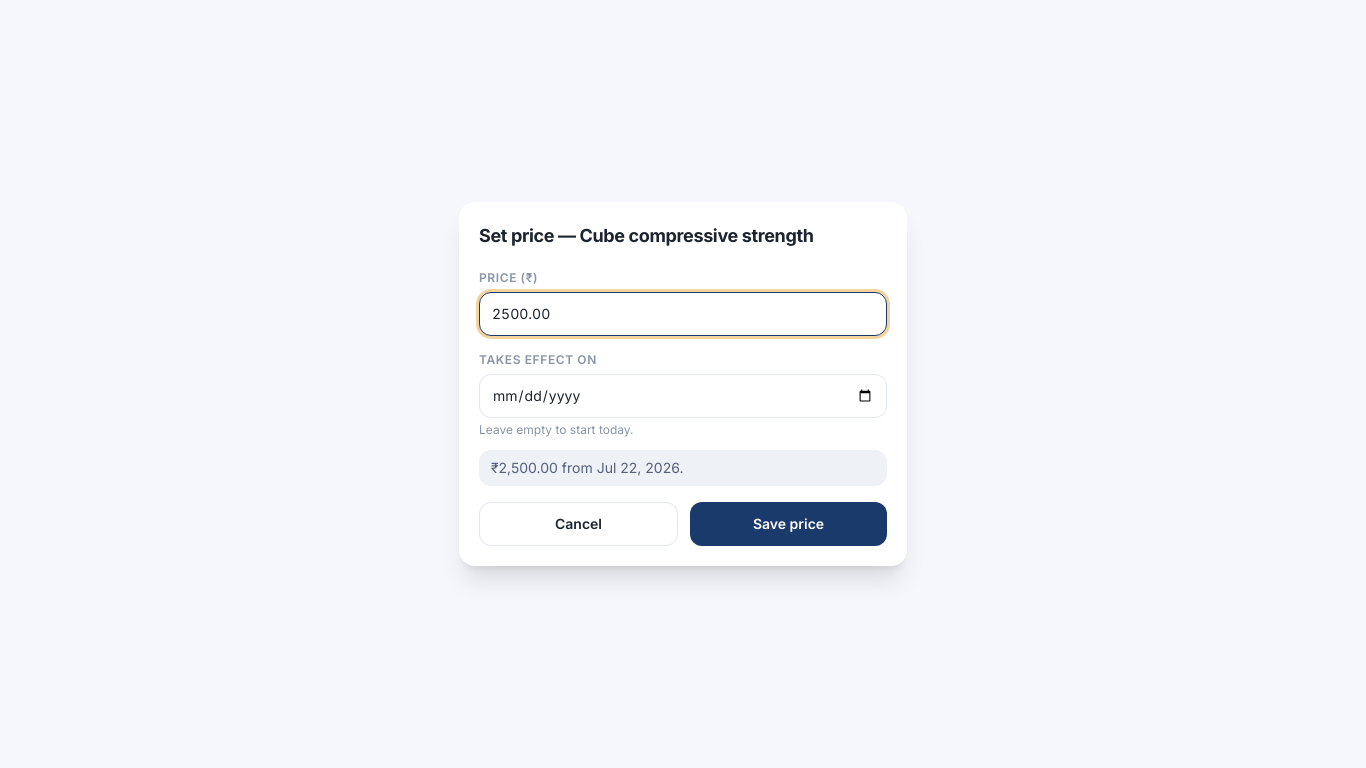
it: RateEditor › shows the 409 conflict message from the server verbatim
The width and height of the screenshot is (1366, 768).
Clear the field labelled "Price (₹)" at coordinates (683, 314), box [479, 292, 887, 336]
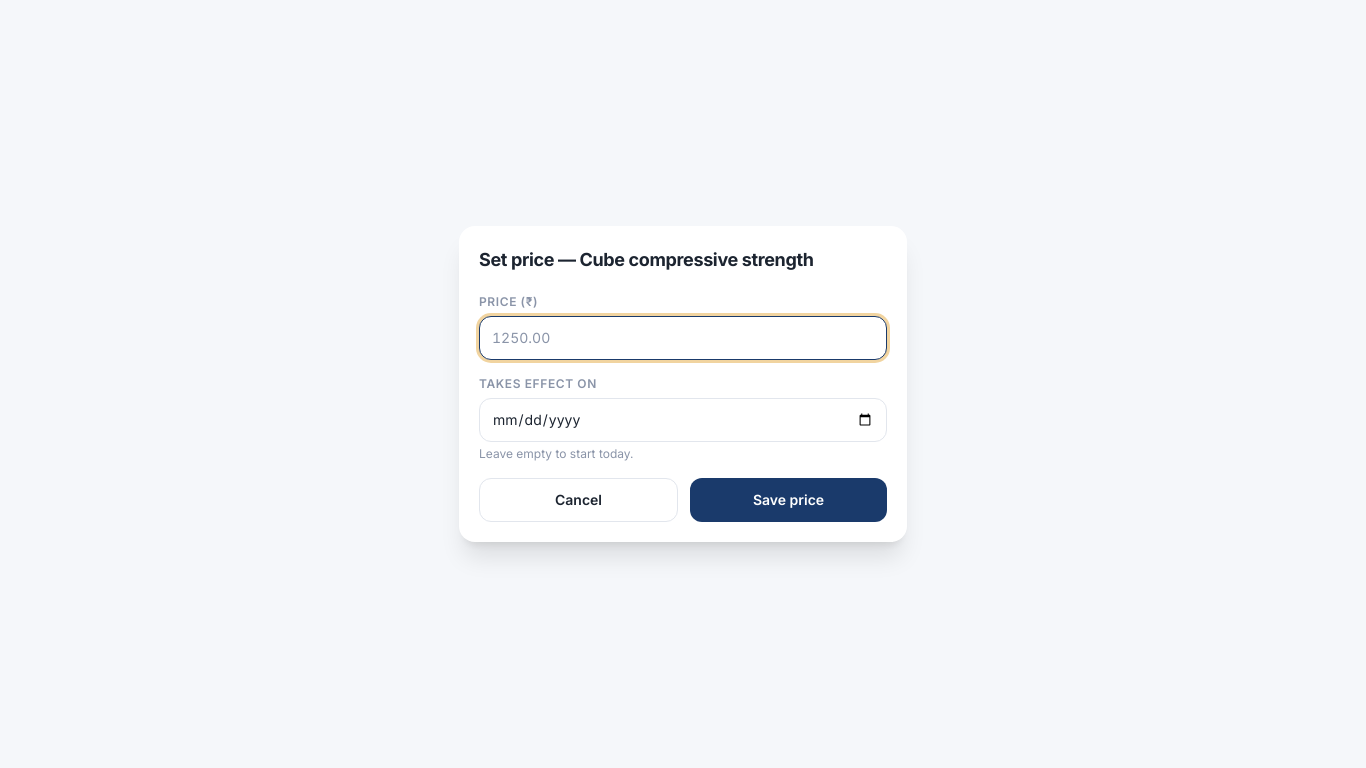
Type "1300" into the field labelled "Price (₹)" at coordinates (683, 338), box [479, 316, 887, 360]
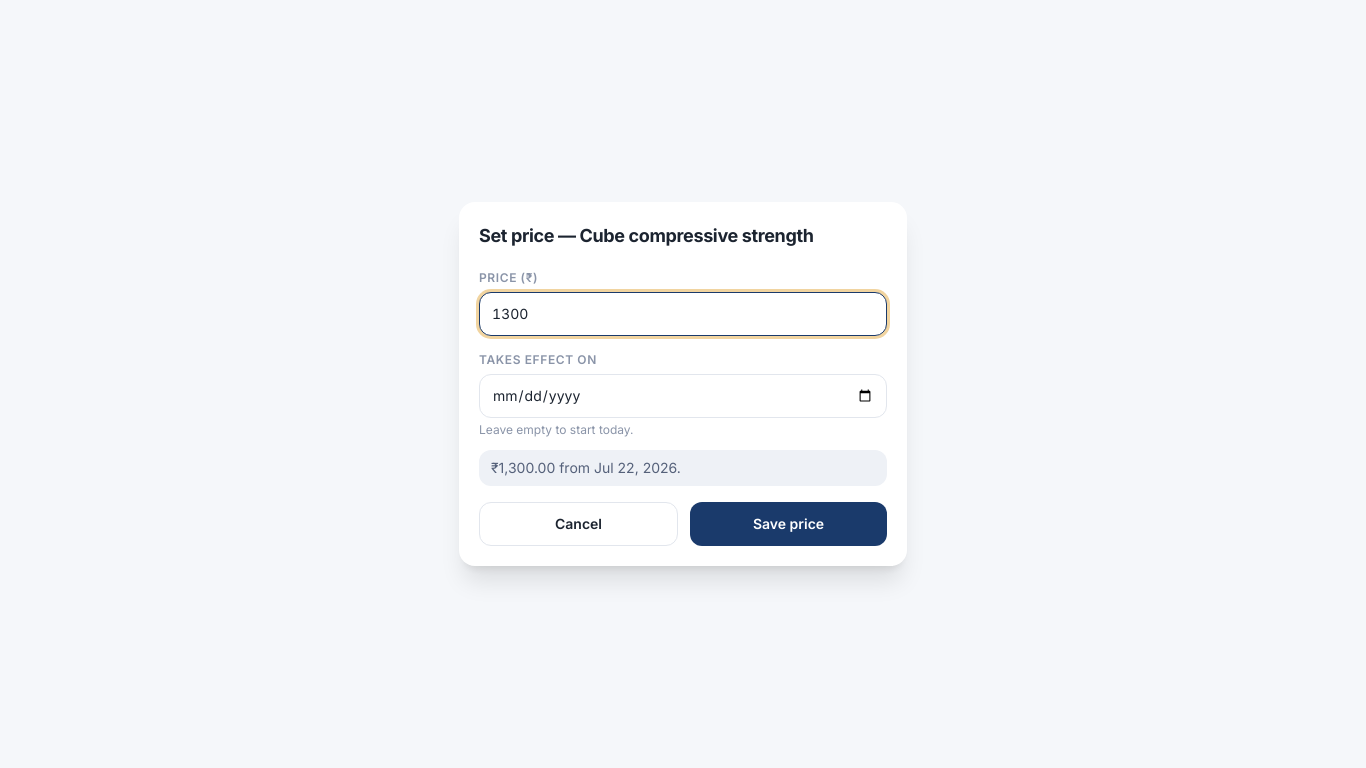
Click the button "Save price" at coordinates (788, 524), box [690, 502, 887, 546]
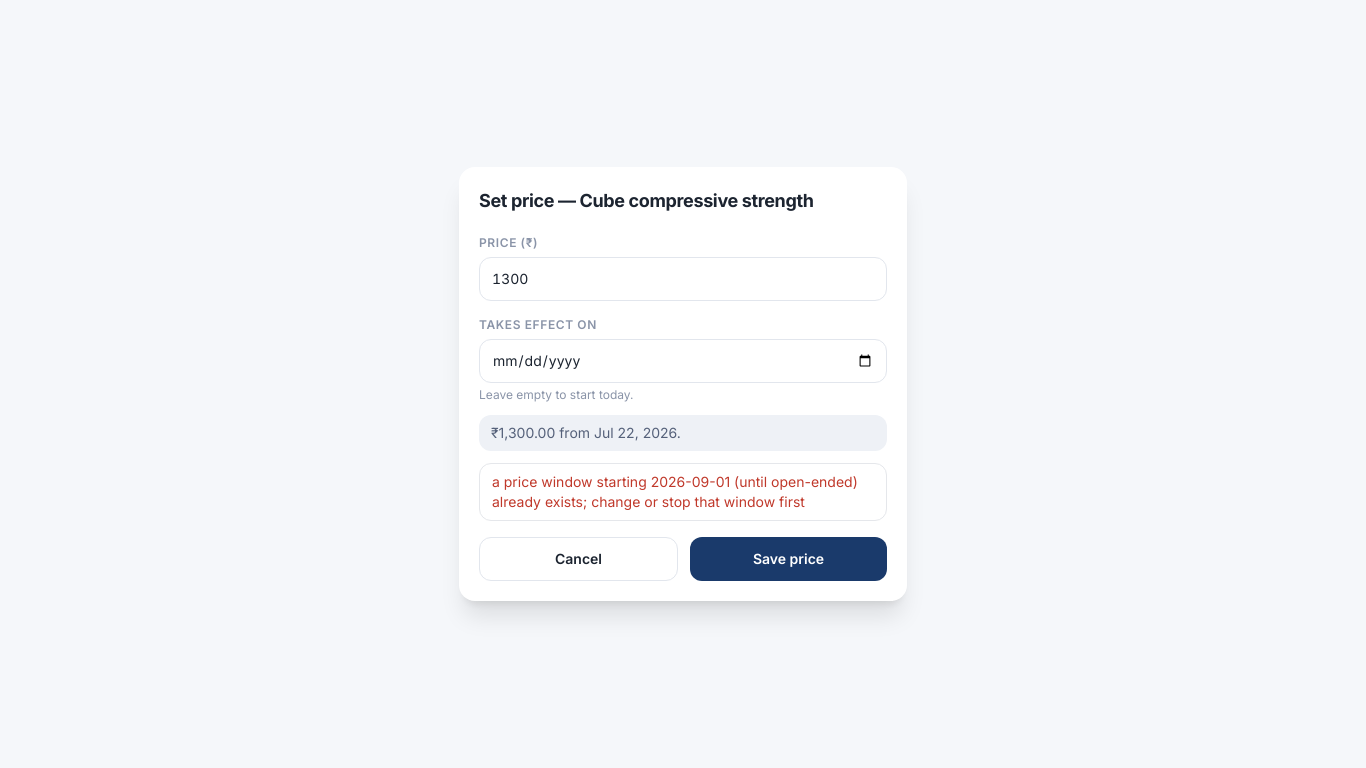
Now the message shows "a price window starting 2026-09-01 (until open-ended) already exists; change or stop that window first", box [492, 473, 858, 510]
